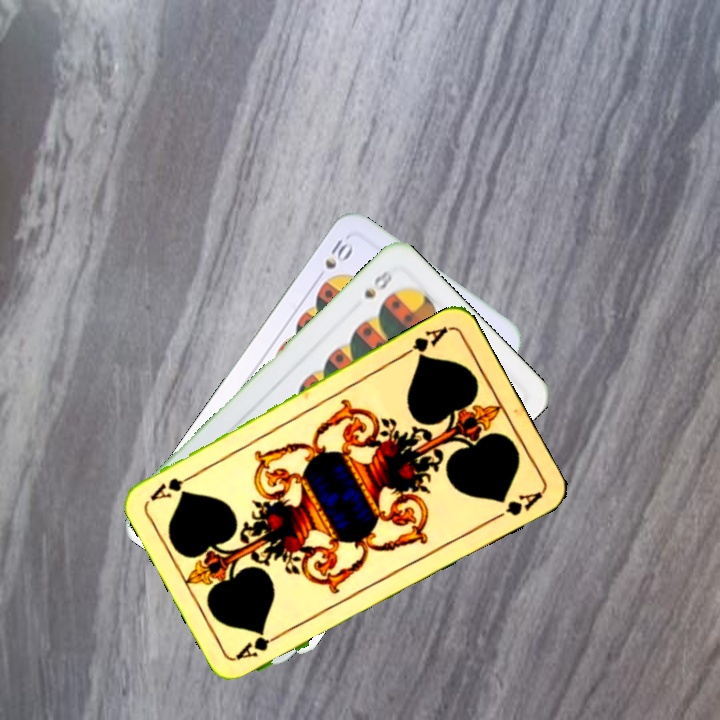GA: (398, 322, 450, 362), (232, 627, 288, 662)
S10: (311, 234, 356, 284)
S8: (359, 265, 395, 301)
